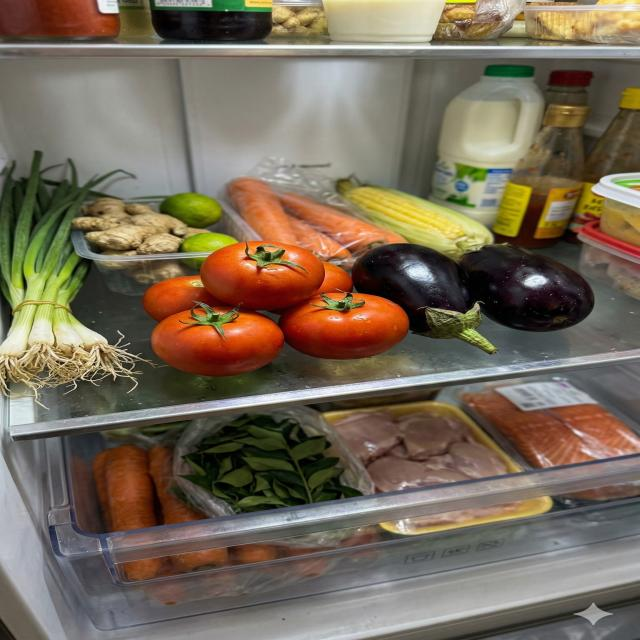carrot: (226, 176, 411, 274), (92, 443, 212, 535)
chicken: (332, 407, 510, 494)
corn: (335, 172, 494, 260)
curry_leaves: (177, 412, 366, 515)
eggplant: (351, 241, 596, 354)
fish: (458, 389, 640, 470)
ginger: (71, 197, 213, 287)
lime: (179, 232, 240, 271), (160, 193, 224, 229)
spring_onion: (0, 148, 152, 410)
tomato: (143, 240, 412, 377)
